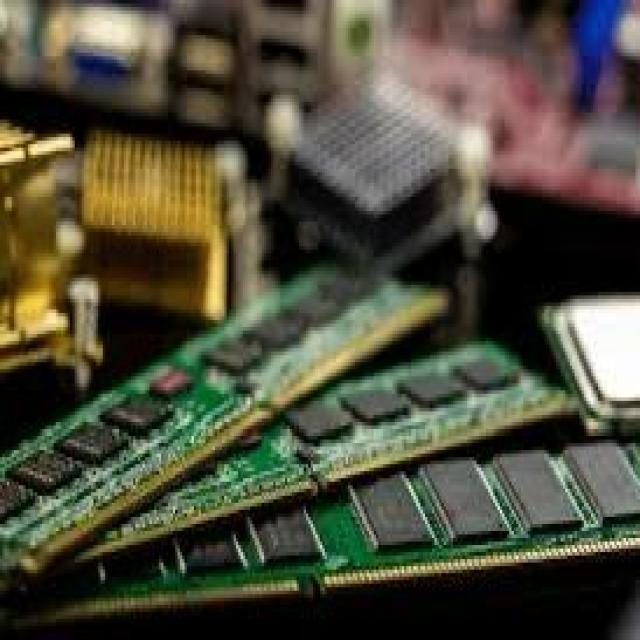Ram: (54, 211, 586, 607)
